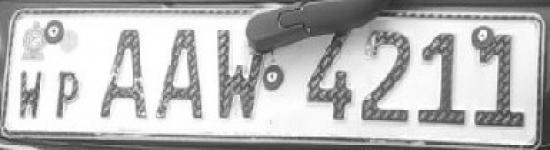1: (416, 20, 472, 136), (472, 29, 528, 139)
2: (356, 18, 416, 131)
4: (306, 18, 357, 127)
A: (90, 23, 151, 122), (151, 21, 206, 125)
P: (50, 65, 88, 123)
W: (207, 19, 274, 127), (16, 68, 48, 123)
